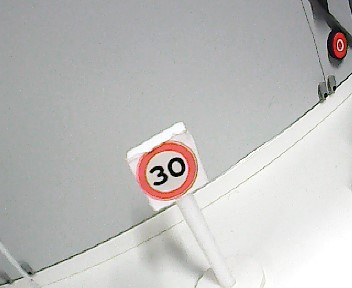30-bord: (135, 140, 198, 200)
